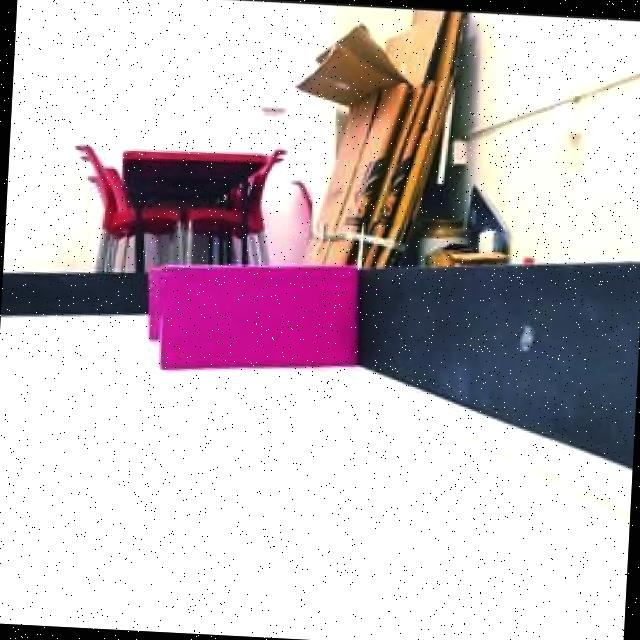xparking: (142, 254, 358, 381)
